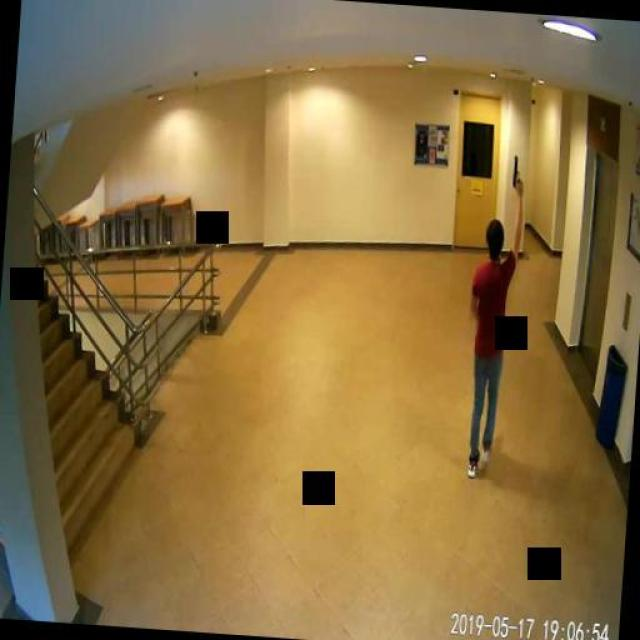gun: (510, 154, 525, 192)
